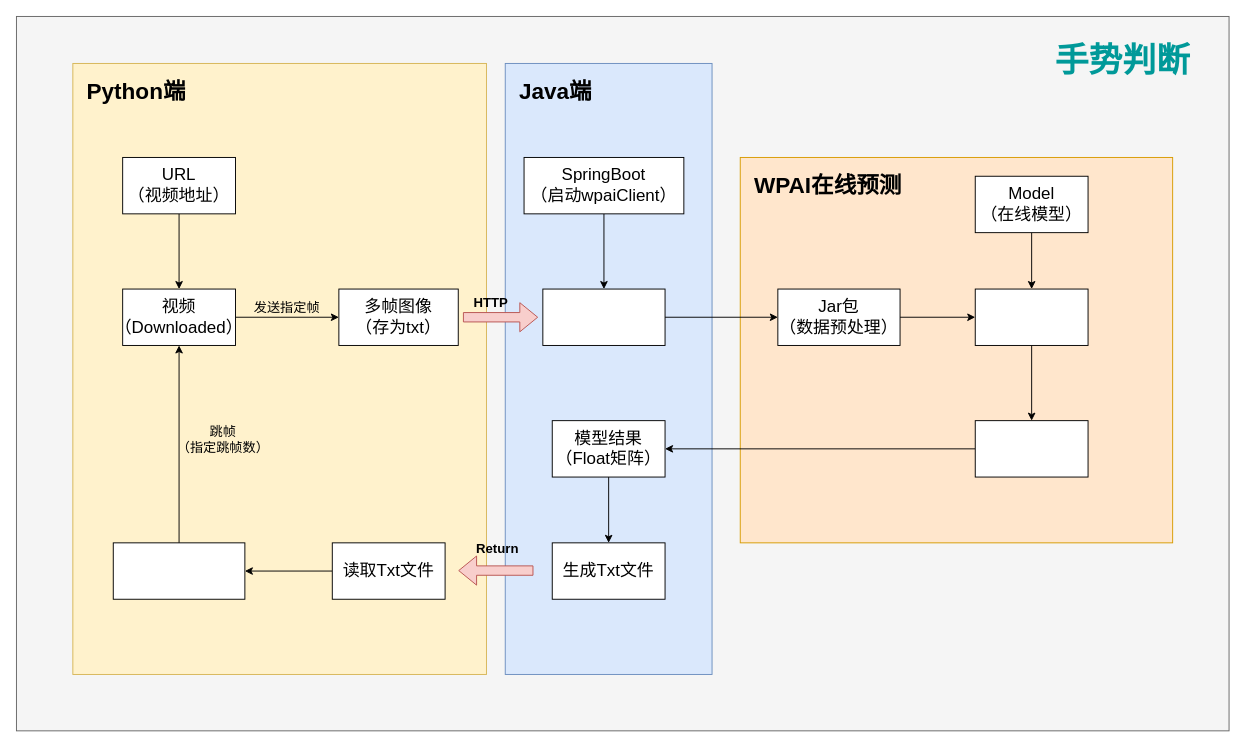
This 1246x747 diagram has some shape labels left out. Here are the shapes that lost their labels. From the top down, the centre of each, then its label:
At pixel 603 316: "多帧图像 （加载txt）".
At pixel 1031 316: "TensorFlow Serving".
At pixel 1031 448: "模型输出 （预测图像）".
At pixel 178 570: "Response （计算响应值）".
